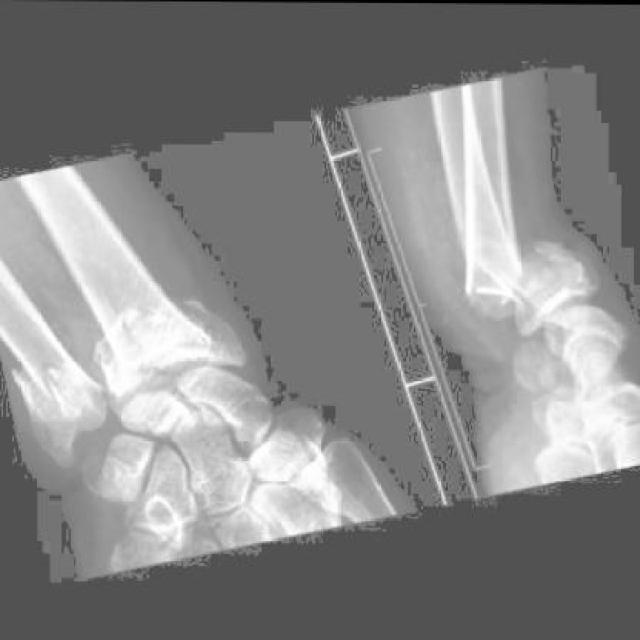Fracture: (91, 285, 259, 403), (456, 231, 602, 332), (9, 346, 123, 462), (460, 242, 553, 310)
